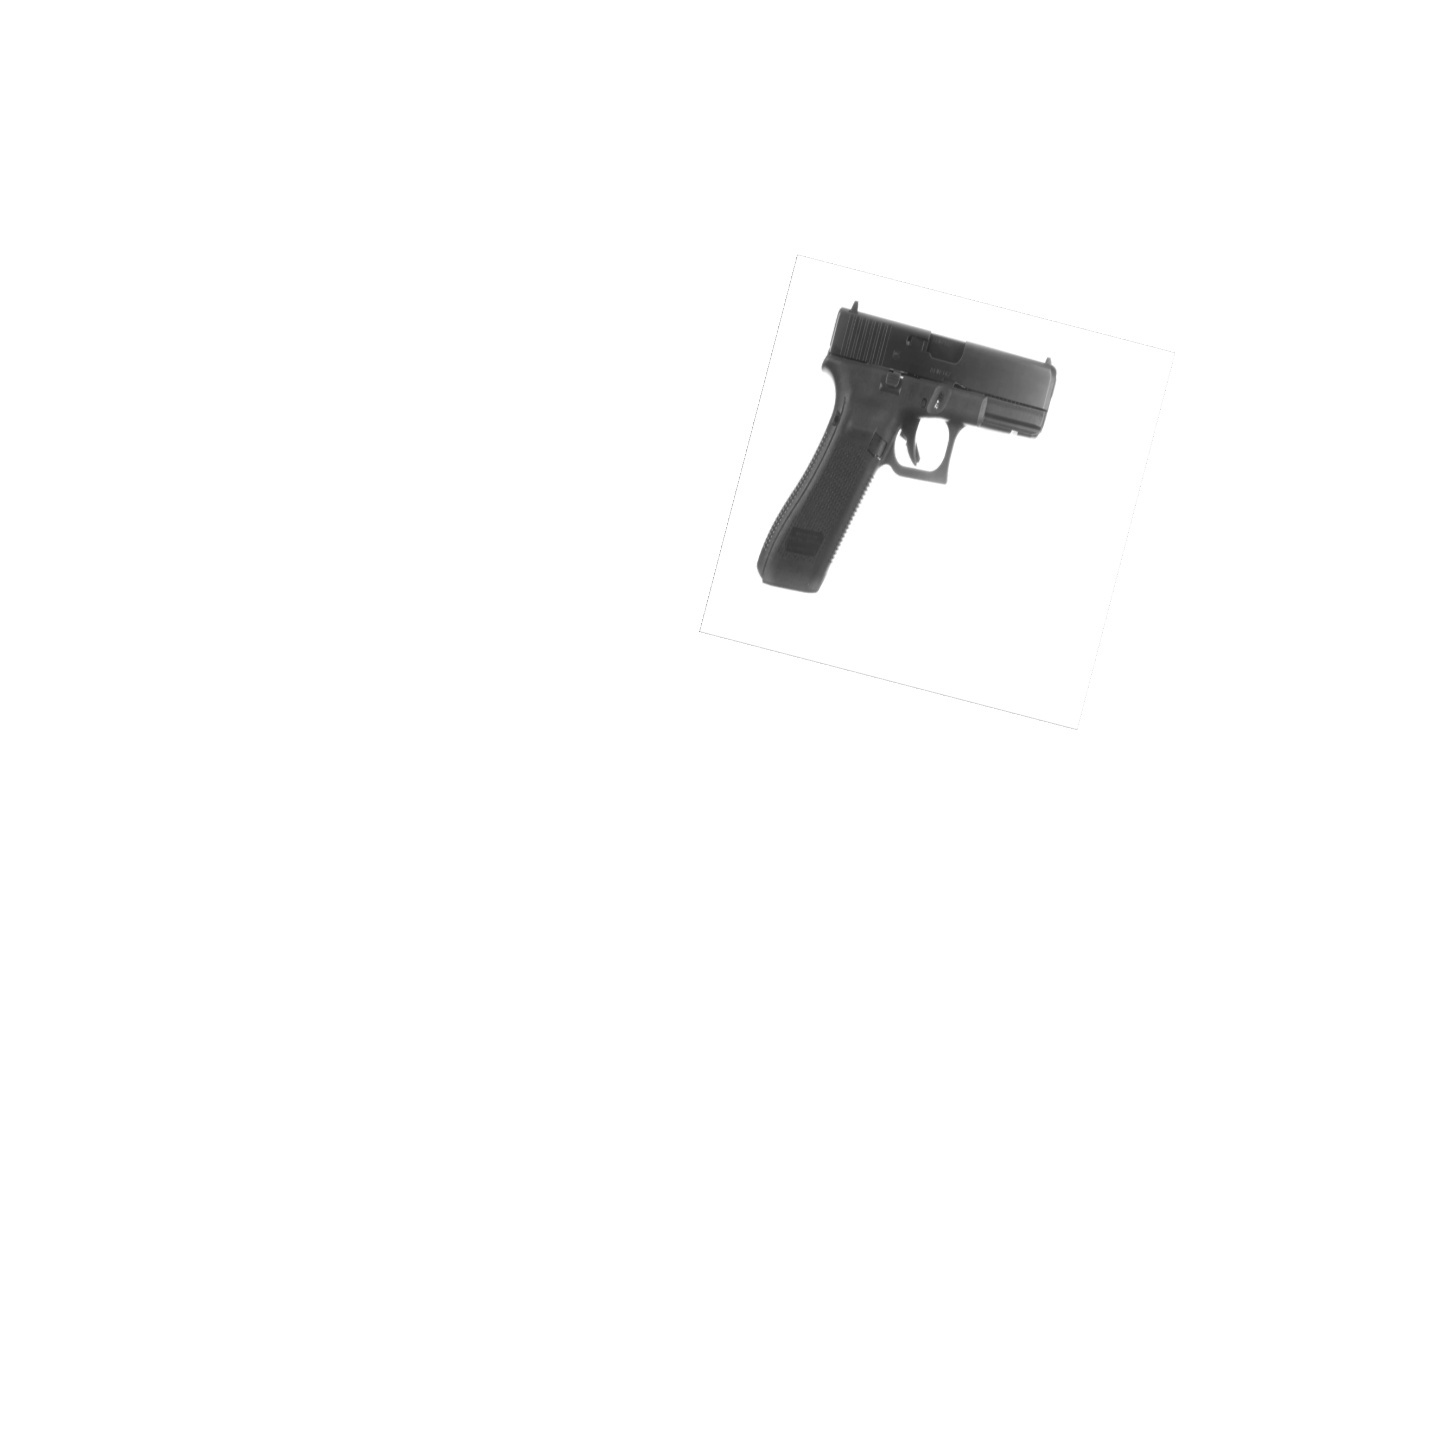gun: (748, 295, 1065, 599)
